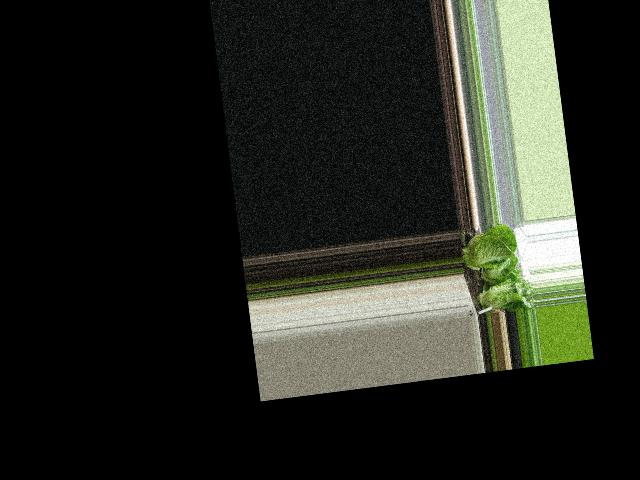lettuce: (470, 276, 529, 313)
